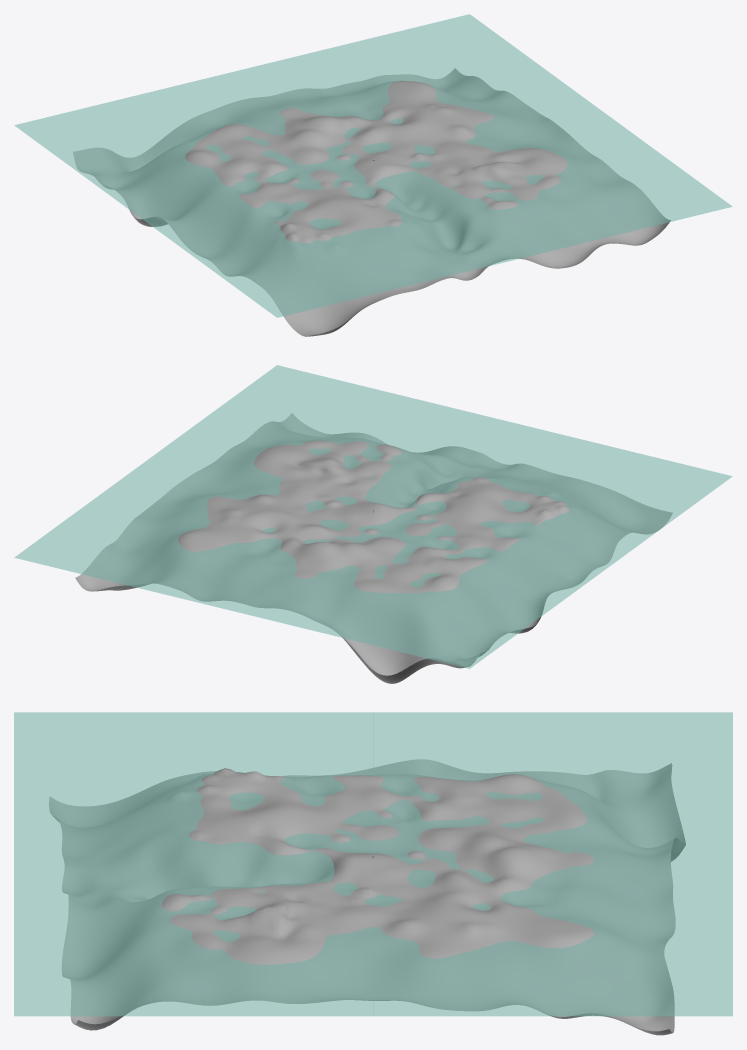
The model's file is Swamp environment.fbx.
3 renders of one model, top to bottom at view 1: azimuth 30°, elevation 25°; view 2: azimuth 150°, elevation 25°; view 3: azimuth 270°, elevation 25°, orthographic. The views are drawn at different scales.
Visible parts, largest first — view 1: pPlane2, pPlane1; view 2: pPlane2, pPlane1; view 3: pPlane2, pPlane1.
Part boxes in pixels (<box>): pPlane2: <box>14,14,732,317</box>; pPlane1: <box>73,68,670,336</box>; pPlane2: <box>14,365,732,668</box>; pPlane1: <box>75,413,672,683</box>; pPlane2: <box>14,712,732,1016</box>; pPlane1: <box>49,759,685,1035</box>.
Size of the model in its own units: 230 by 33.08 by 230.
